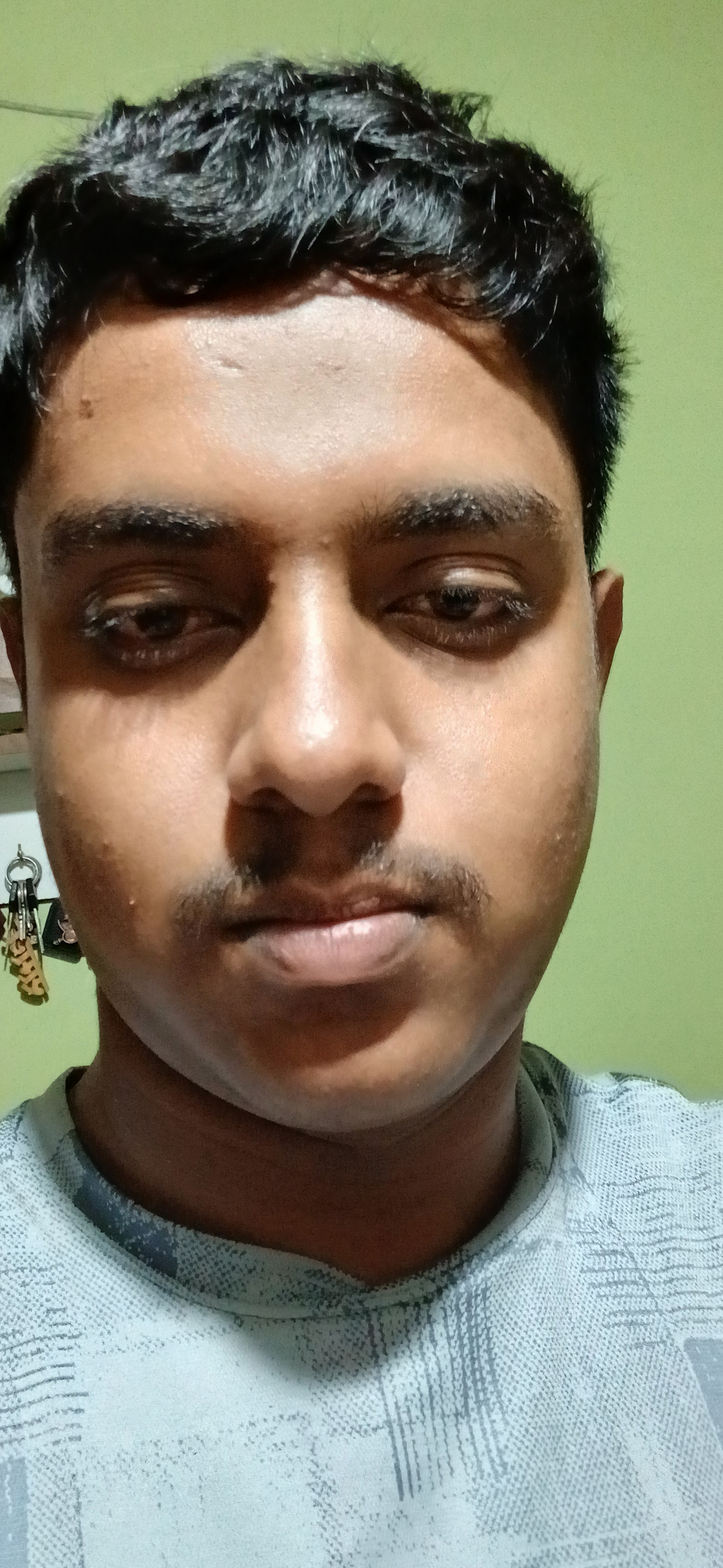papule: (261, 565, 283, 595), (318, 535, 339, 557)
pustule: (122, 894, 149, 910)
